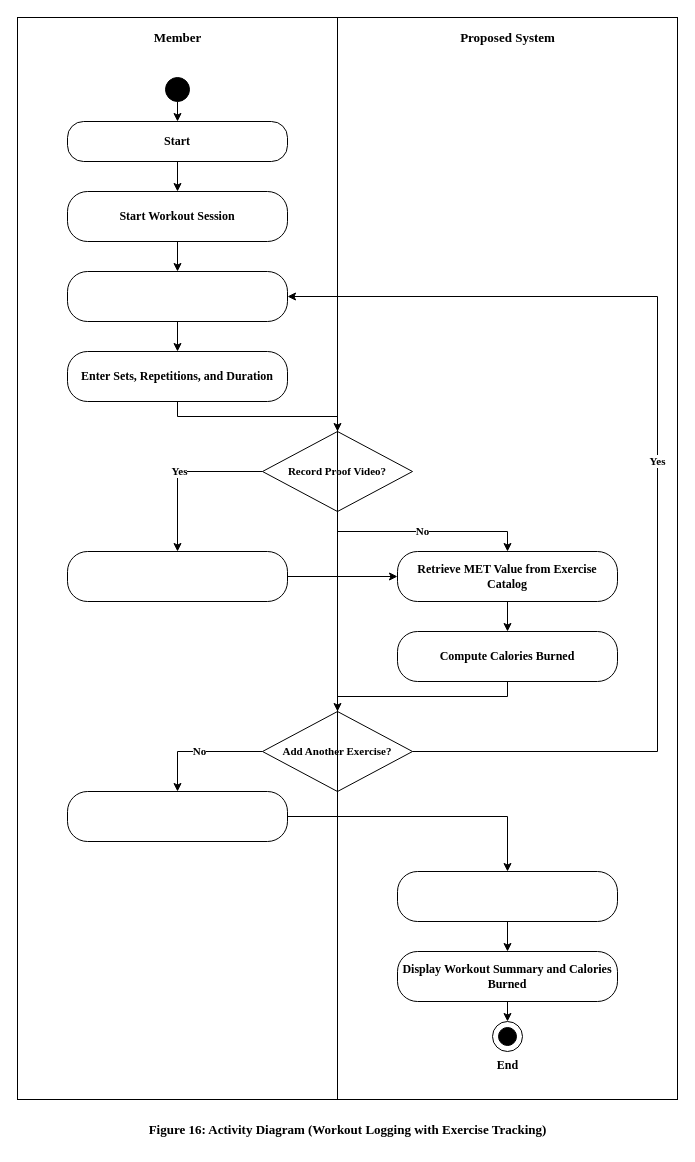
Some shapes in this 695 by 1162 pixel diagram are drawn without their labels. The shapes that lost their labels are listed below. From the top down, each one's centre as x and y in pixels, then its label:
At point (177, 296): "Select Exercise from Catalog".
At point (177, 576): "Record or Upload Proof Video".
At point (177, 816): "Finish Workout Session".
At point (507, 896): "Save Entries to Workout Logs".
